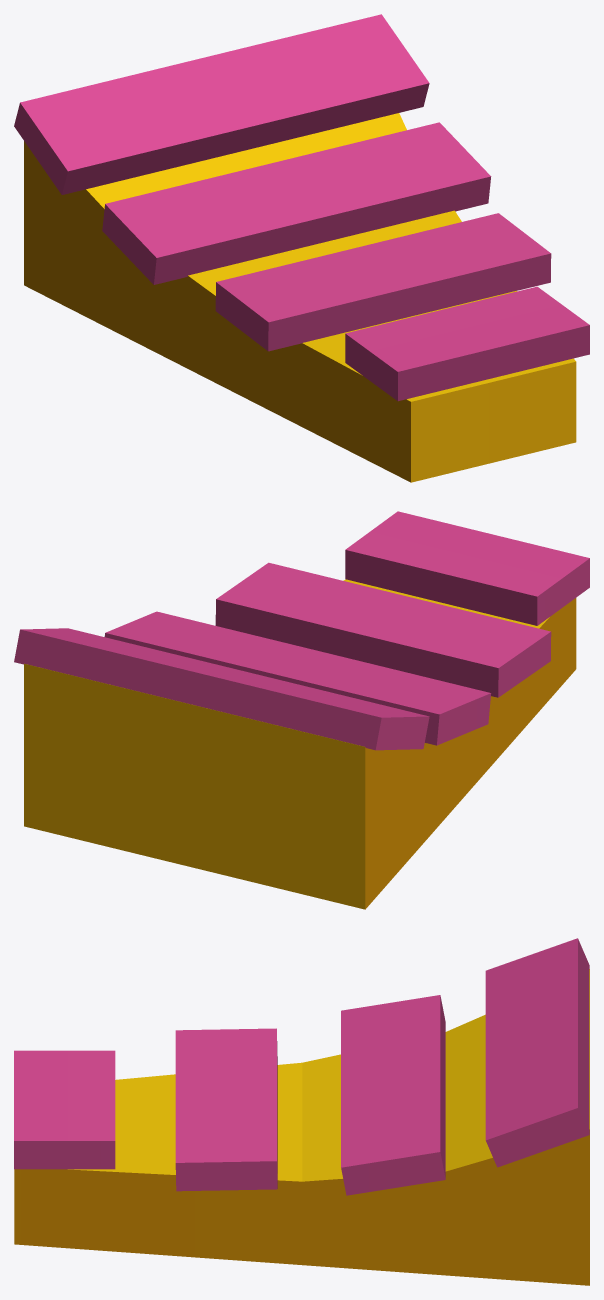
Rendered from Props_Instruments_Balafon.fbx.
3 renders of one model, top to bottom at view 1: azimuth 30°, elevation 25°; view 2: azimuth 150°, elevation 25°; view 3: azimuth 270°, elevation 25°, orthographic. The views are drawn at different scales.
Parts seen in each view (by area): view 1: Props_Instruments_Balafon; view 2: Props_Instruments_Balafon; view 3: Props_Instruments_Balafon.
Boxes of the visible parts, x1=… form: Props_Instruments_Balafon: x1=14, y1=14, x2=589, y2=482; Props_Instruments_Balafon: x1=14, y1=511, x2=589, y2=909; Props_Instruments_Balafon: x1=14, y1=938, x2=589, y2=1285.
Size of the model in its own units: 0.4301 by 0.2157 by 0.6165.
